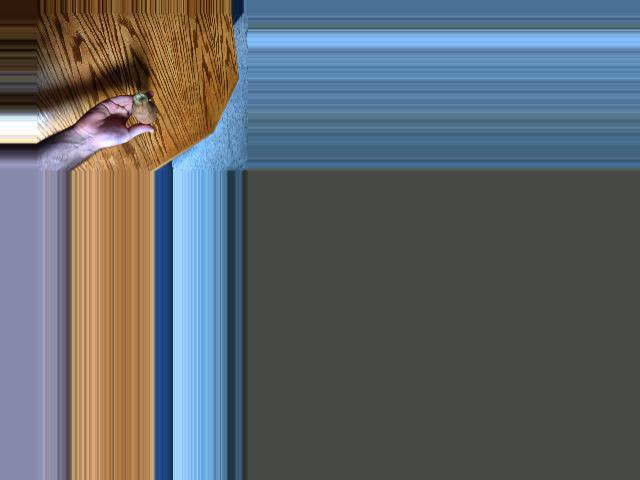sweet_potato: (132, 92, 167, 128)
